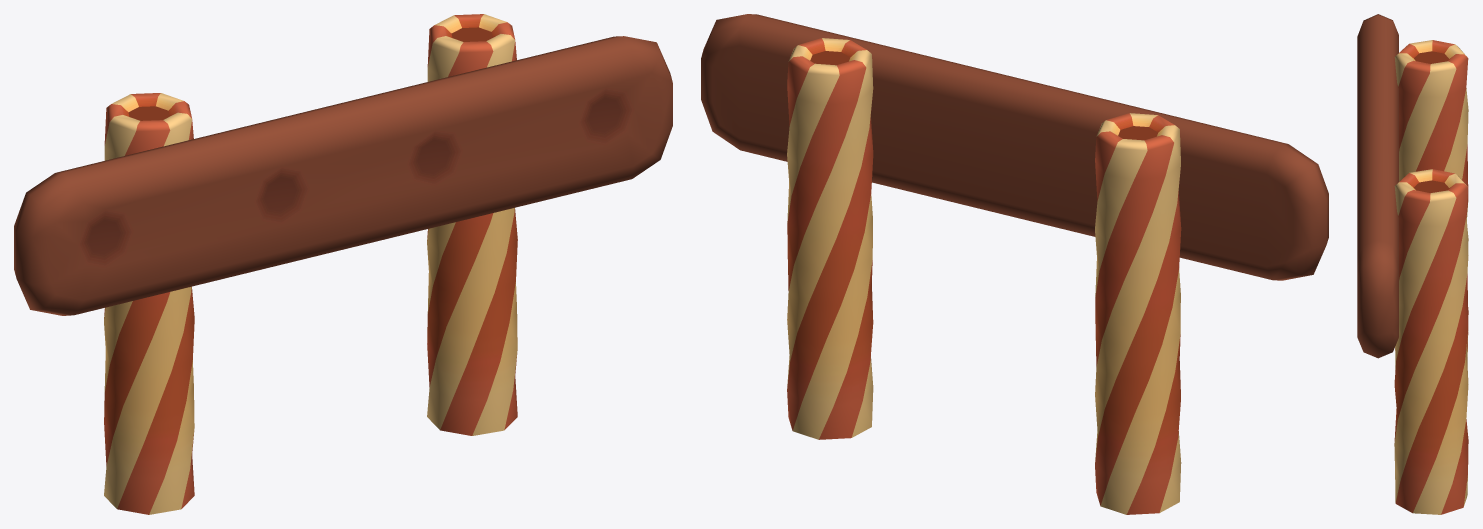
Rendered from n-fence.glb.
The picture shows the model from 3 angles, left to right: view 1: azimuth 30°, elevation 25°; view 2: azimuth 150°, elevation 25°; view 3: azimuth 270°, elevation 25°; orthographic projection. The views are drawn at different scales.
Visible parts, largest first — view 1: Fence_001(Clone); view 2: Fence_001(Clone); view 3: Fence_001(Clone).
Part boxes in pixels (x1,y1,x2,y2): Fence_001(Clone): (14, 14, 672, 514); Fence_001(Clone): (701, 14, 1328, 514); Fence_001(Clone): (1357, 14, 1468, 514).
Size of the model in its own units: 2.79 by 1.58 by 0.5009.
Materials: 1 (1 with a texture image).
